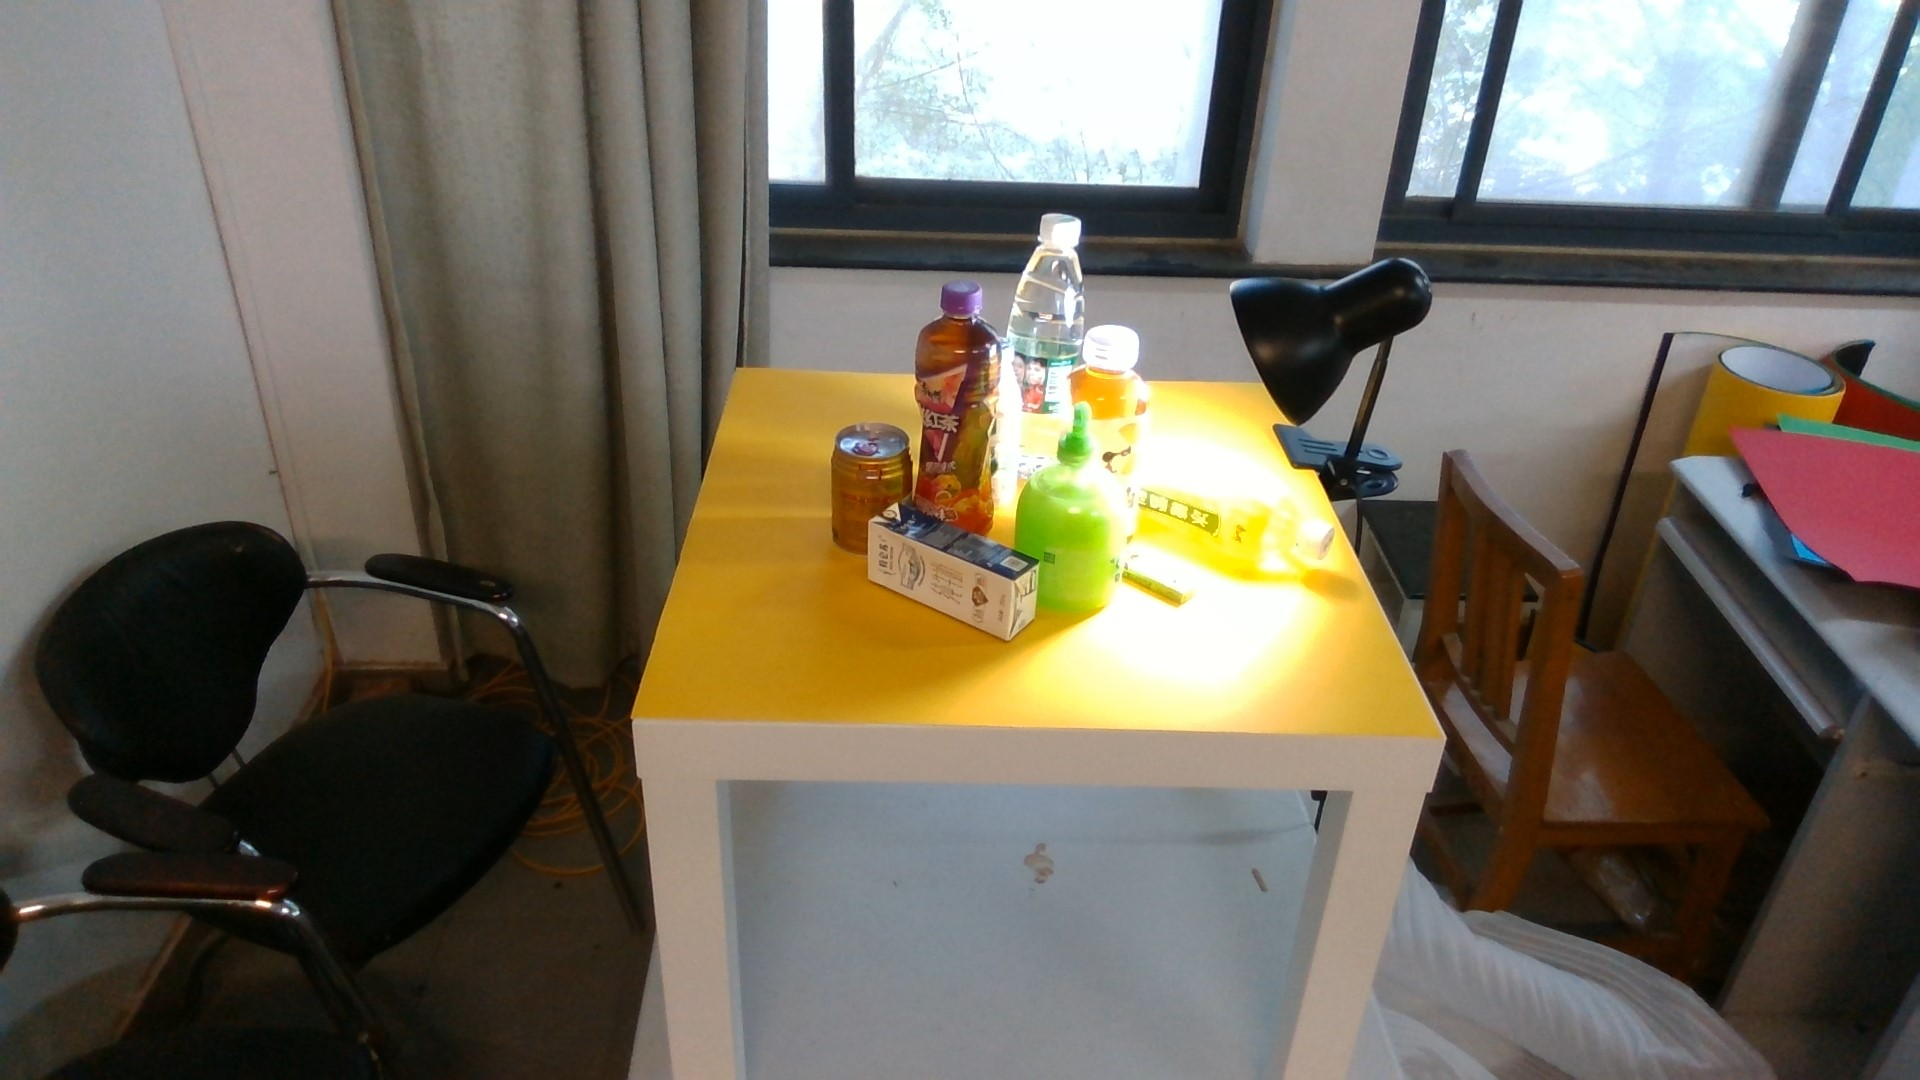BB002: (1120, 550, 1201, 605)
BB010: (865, 502, 1040, 644)
ZA002: (1040, 409, 1118, 616)
ZC004: (833, 425, 915, 506)
ZC009: (913, 281, 1005, 516)
ZC011: (1147, 446, 1333, 578)
ZC012: (1095, 320, 1145, 473)
ZC017: (1009, 206, 1068, 454)
